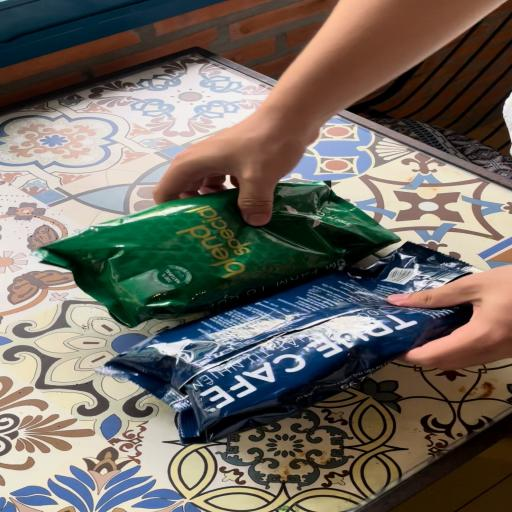cafe_hat: (98, 243, 472, 445)
cafe_xay: (33, 182, 399, 327)
